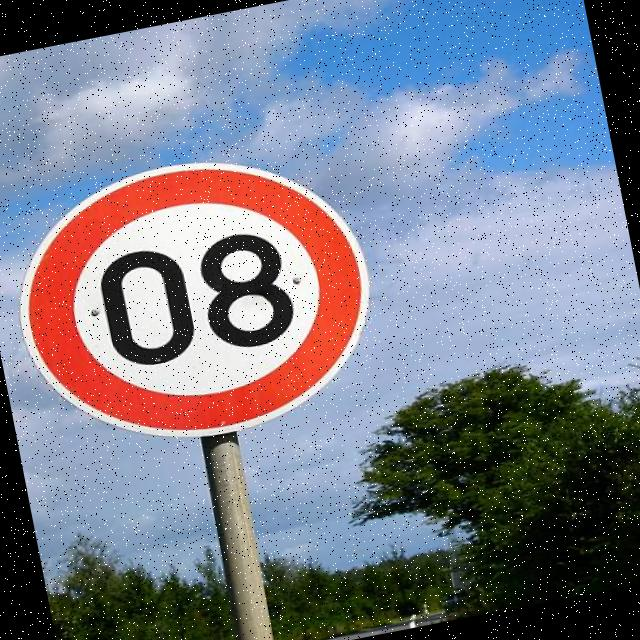speed_limit_80: (0, 127, 394, 469)
